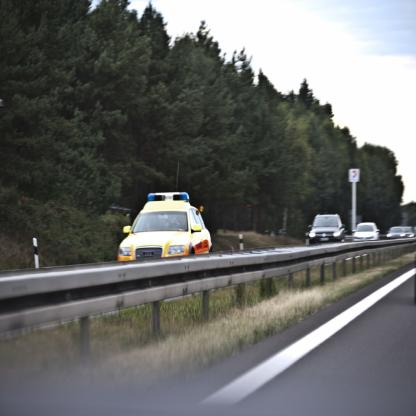Car: (118, 161, 215, 263), (310, 215, 347, 244), (354, 222, 381, 242), (387, 227, 407, 242), (407, 228, 416, 239)
